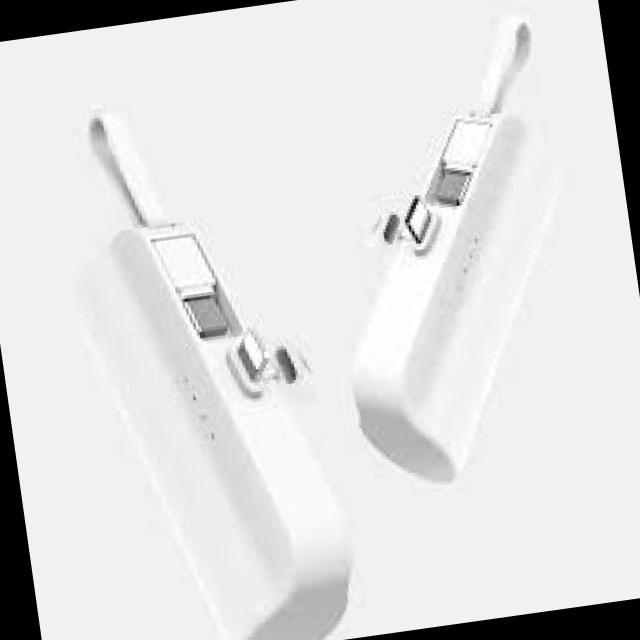power_bank: (55, 196, 370, 640), (317, 100, 608, 499)
